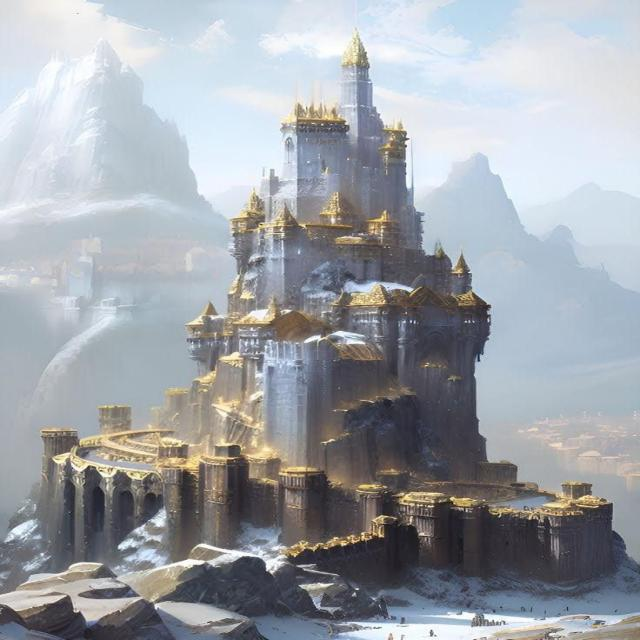castle: (118, 16, 574, 402)
